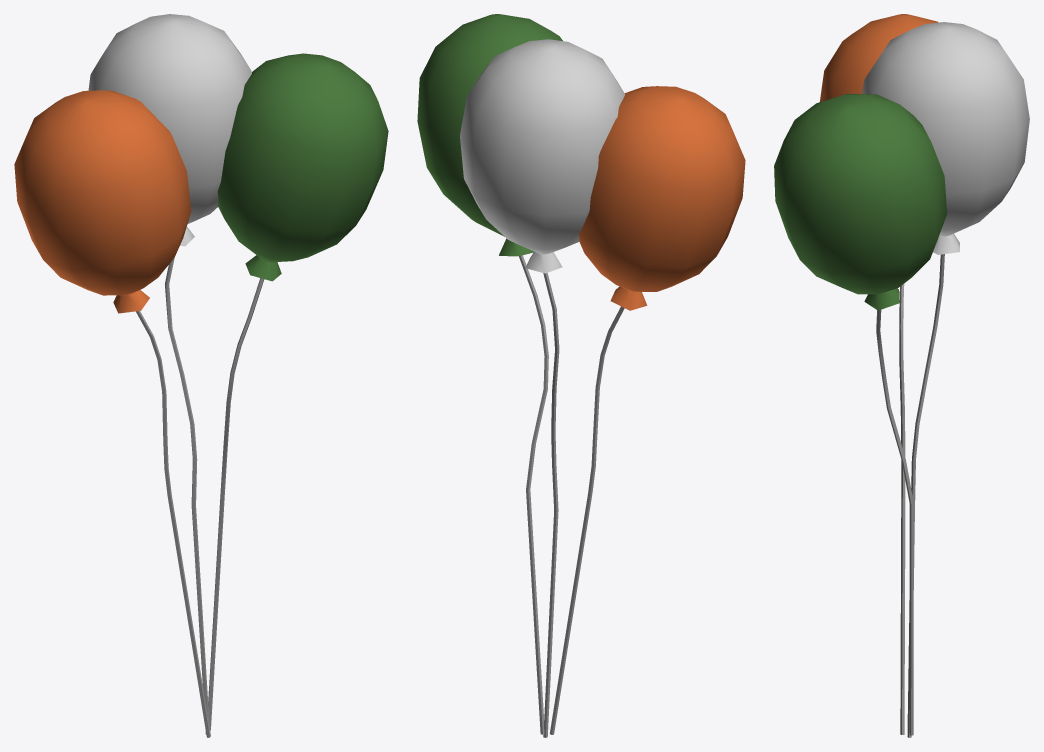
The model's file is BalloonBouqet_02.fbx.
3 views of the same model, side by side, from view 1: azimuth 30°, elevation 25°; view 2: azimuth 150°, elevation 25°; view 3: azimuth 270°, elevation 25° (orthographic).
Parts seen in each view (by area): view 1: BalloonBouqet_02; view 2: BalloonBouqet_02; view 3: BalloonBouqet_02.
Part boxes in pixels (box(x1,y1,x2,y2)): BalloonBouqet_02: box(14, 14, 388, 737); BalloonBouqet_02: box(417, 14, 745, 737); BalloonBouqet_02: box(774, 14, 1029, 737).
Size of the model in its own units: 0.538 by 1.11 by 0.3671.
